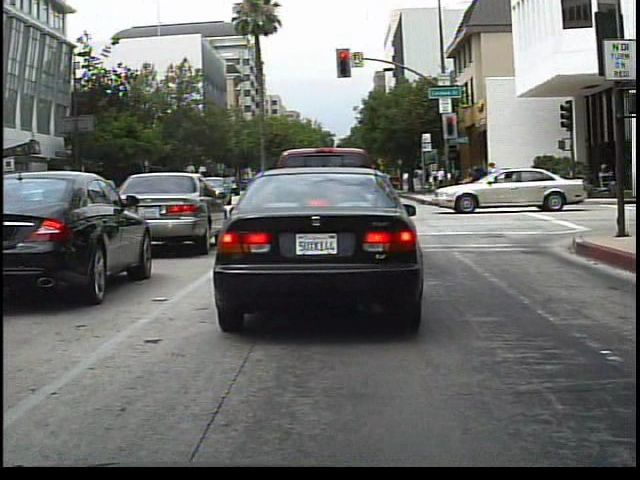person: (461, 157, 489, 207), (466, 158, 484, 200), (484, 158, 501, 197)
